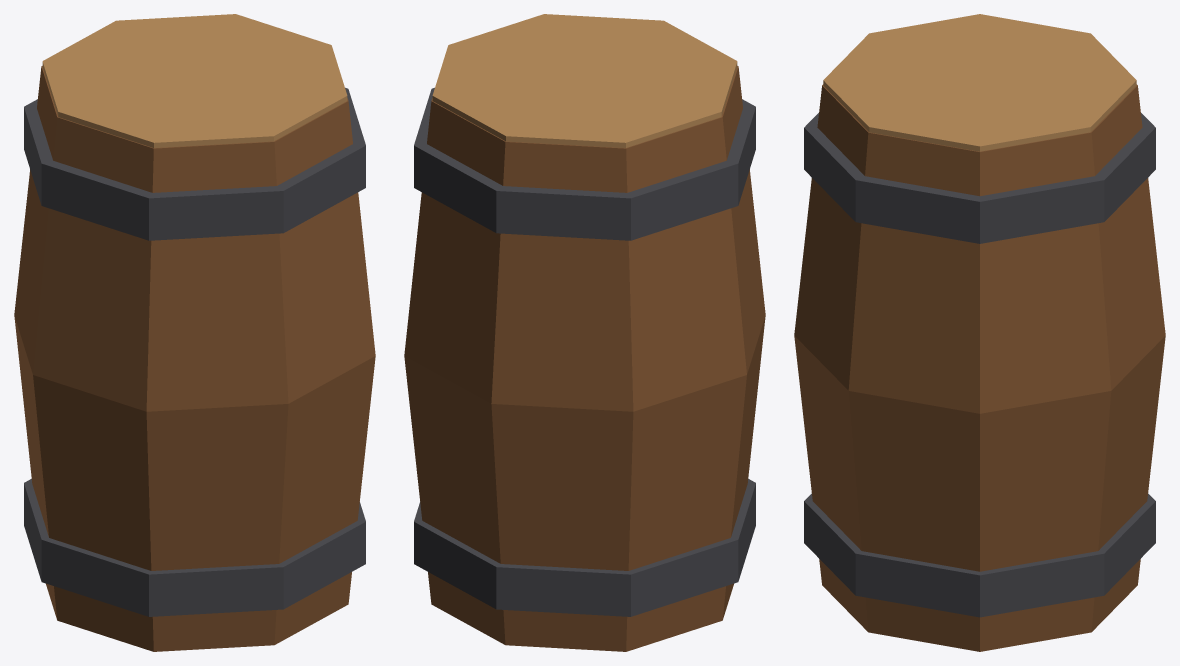
File: Dorf_Fass.fbx
3 views of the same model, side by side, from view 1: azimuth 30°, elevation 25°; view 2: azimuth 150°, elevation 25°; view 3: azimuth 270°, elevation 25° (orthographic).
Parts seen in each view (by area): view 1: Dorf_Fass; view 2: Dorf_Fass; view 3: Dorf_Fass.
Boxes of the visible parts, box(x1,y1,x2,y2) form: Dorf_Fass: box(14, 14, 375, 651); Dorf_Fass: box(404, 14, 765, 651); Dorf_Fass: box(794, 14, 1165, 651).
Bounding box in the file's own units: 0.64 × 0.96 × 0.64.
